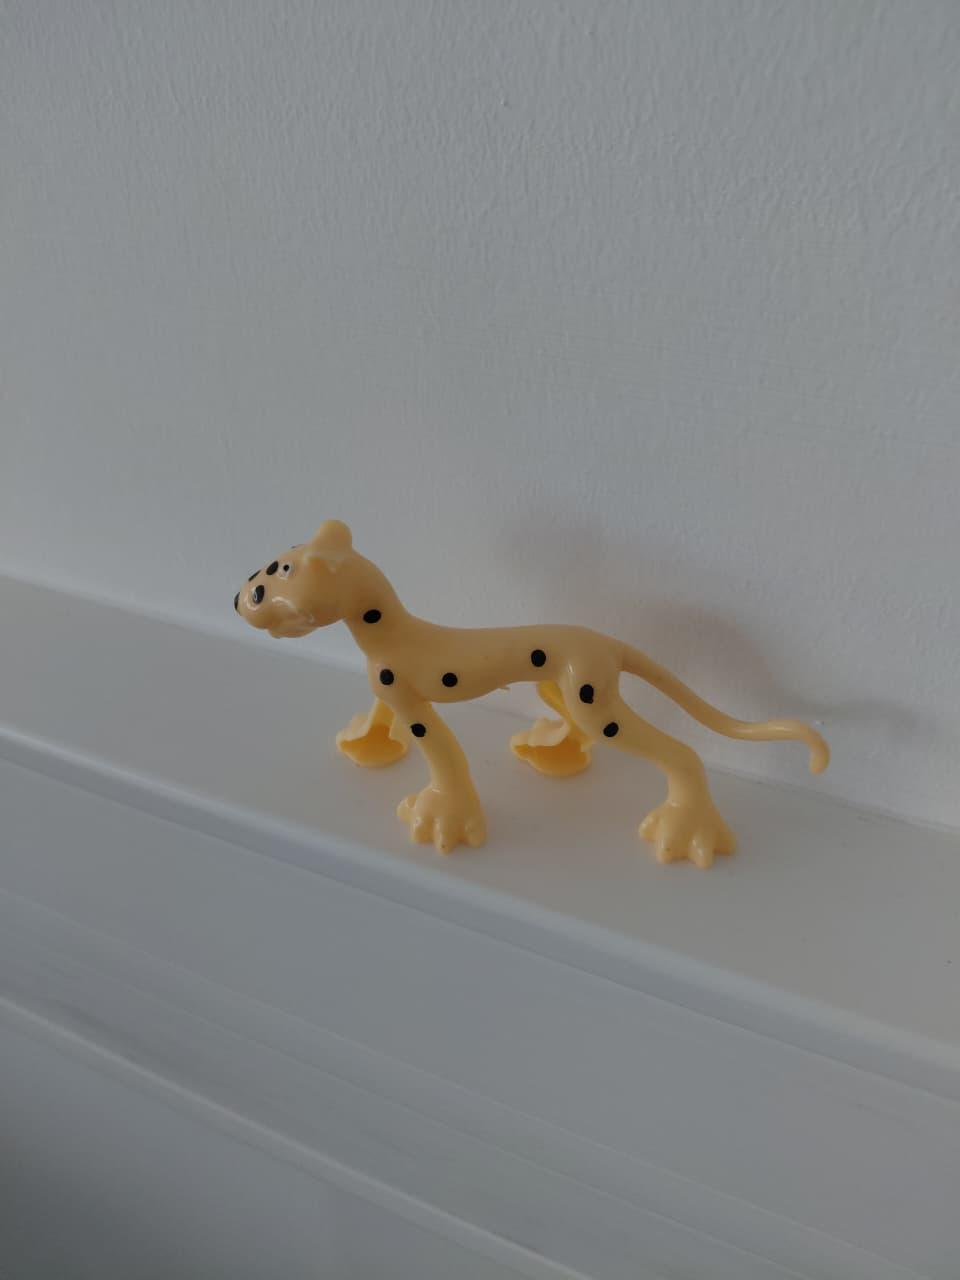cheetah: (198, 481, 864, 948)
